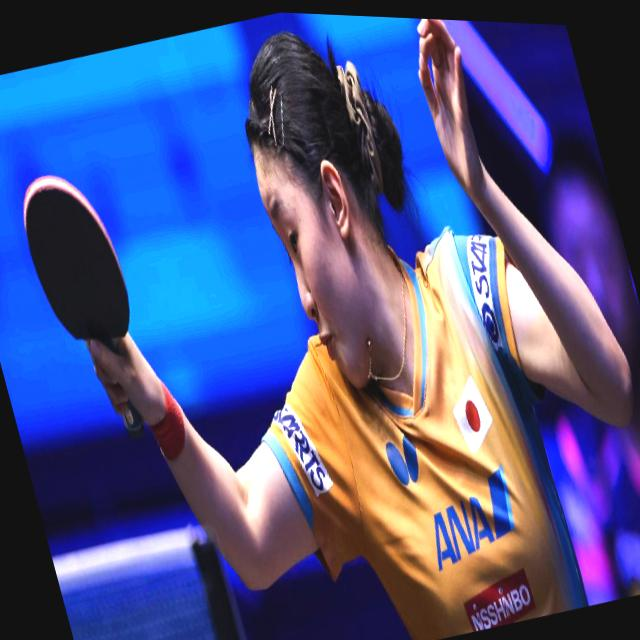TT Racket: (5, 159, 142, 373)
